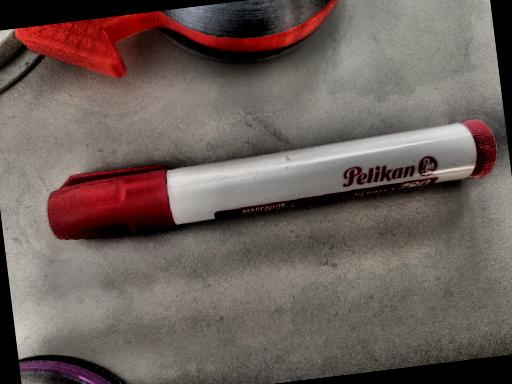marcador rojo: (48, 120, 497, 239)
